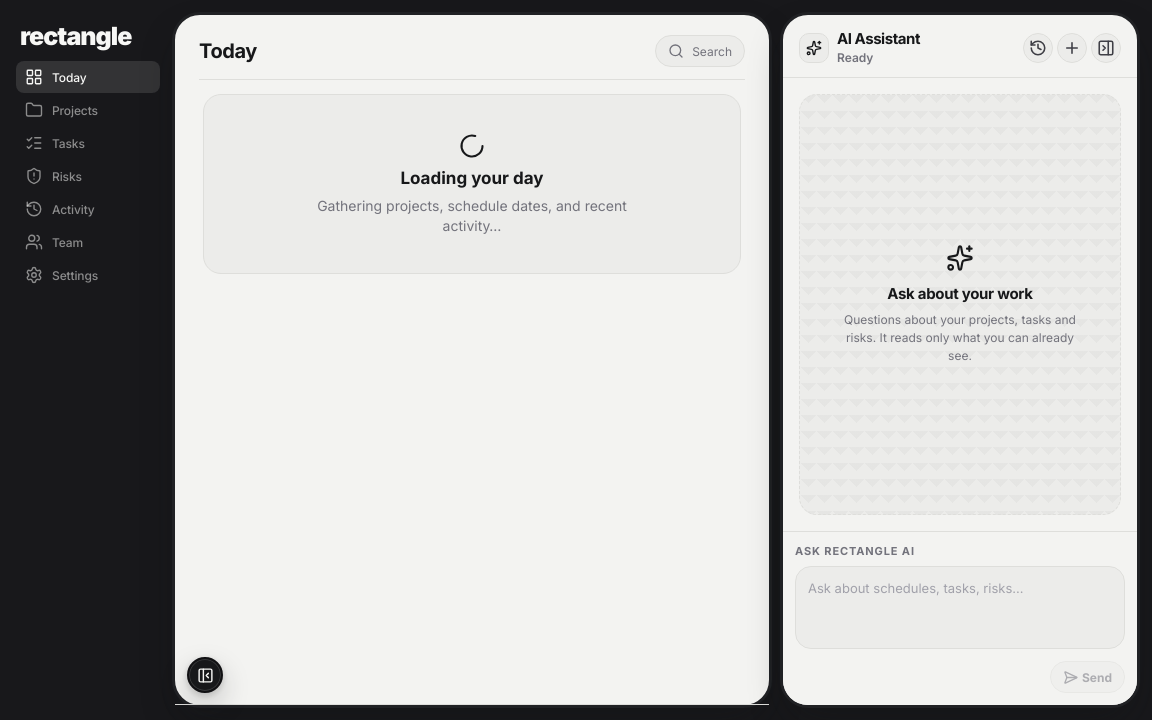
Scenario: AppShell › renders a live assistant panel, not a disabled placeholder
Expected: the element labelled "AI Assistant" is shown, [780, 12, 1140, 708]
Expected: the heading "AI Assistant" is shown, [837, 31, 920, 48]
Type "how many projects are running" into the text box labelled "Ask Rectangle AI" at (960, 608), box [795, 566, 1125, 649]
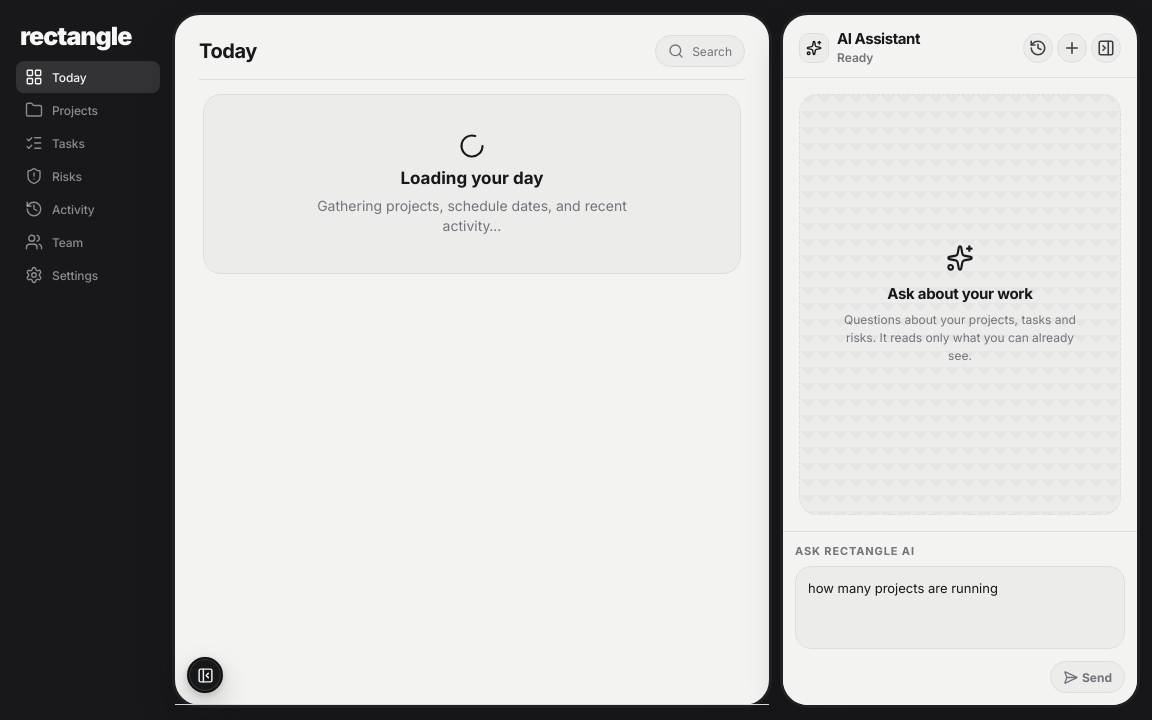
Now the button "Send" is enabled, box [1050, 661, 1125, 693]
Click the button named "close ai panel" at (1106, 48), box [1091, 33, 1121, 63]
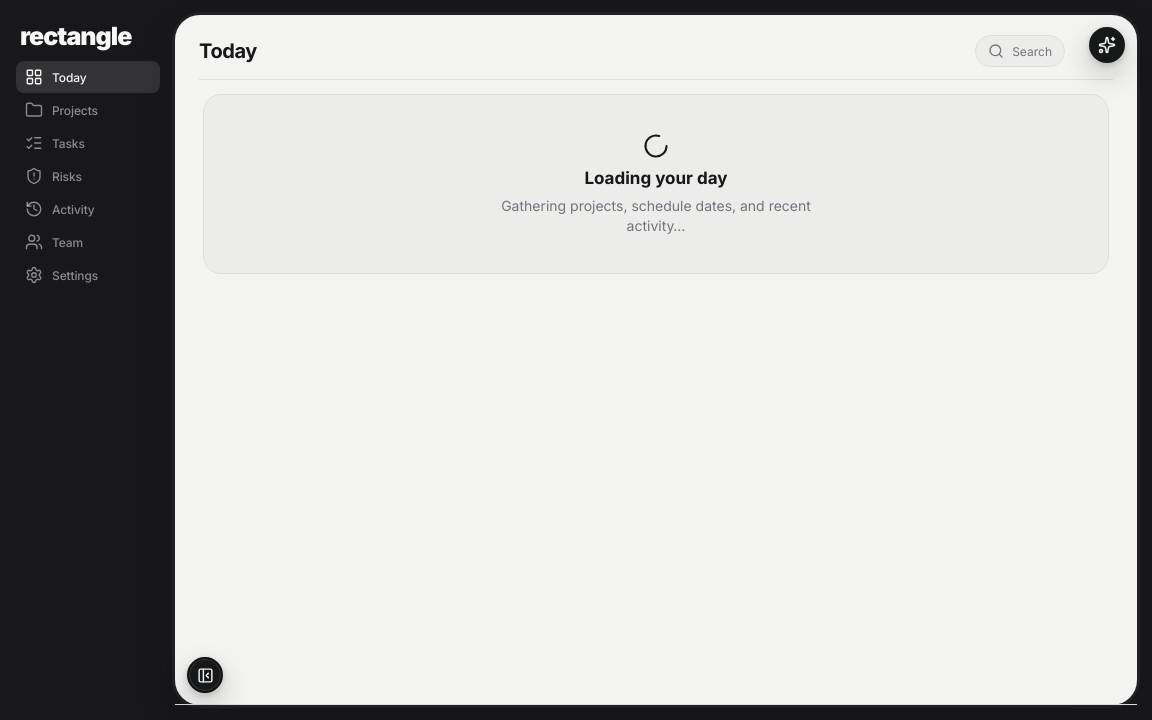
Now the heading labelled "AI Assistant" is gone
